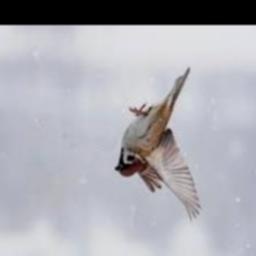Sparrow: (115, 68, 203, 222)
